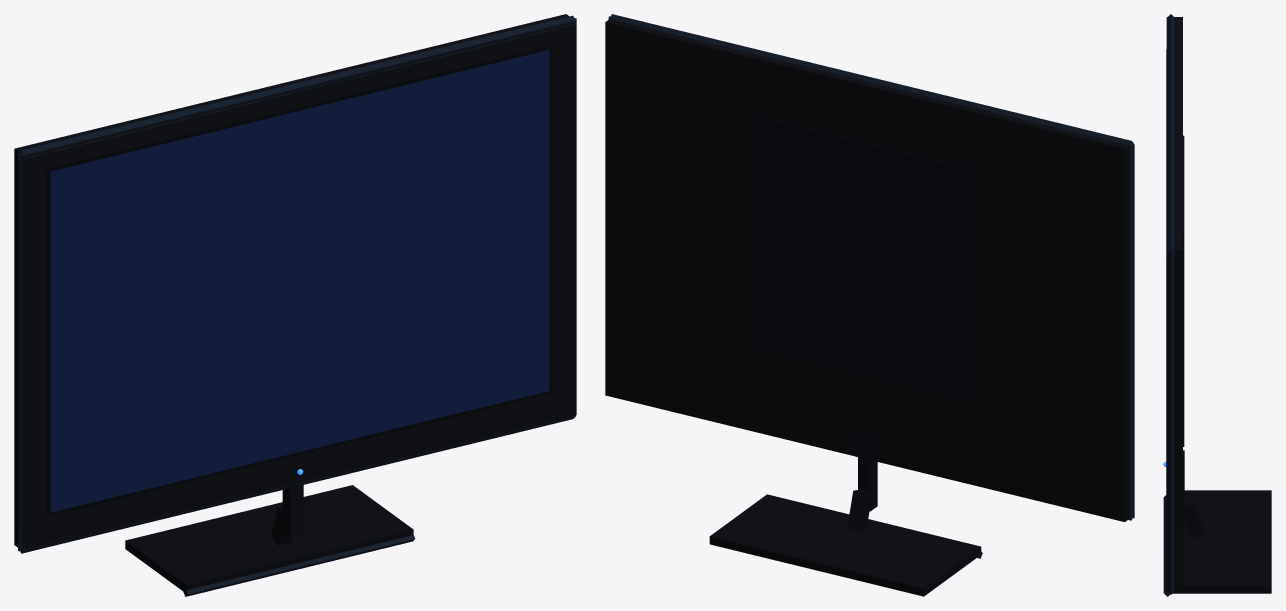
The model's file is monitor.glb.
3 renders of one model, left to right at view 1: azimuth 30°, elevation 25°; view 2: azimuth 150°, elevation 25°; view 3: azimuth 270°, elevation 25°, orthographic. The views are drawn at different scales.
Visible parts, largest first — view 1: ScreenRim, Screen, Body, Base, ScreenRecess, Chin, ChamferTop, ChamferLeft, ChamferBottom, BaseChamfer, ChamferRight, Neck (+1 smaller); view 2: Body, BackPanel, Base, ChamferTop, ChamferLeft, Neck, NeckTaper; view 3: Base, Body, ChamferRight, ChamferTop, BackPanel, NeckTaper, Screen, BaseChamfer.
Boxes of the visible parts, bbox=[...] form: ScreenRim: bbox=[51, 50, 548, 511]; Screen: bbox=[51, 51, 547, 510]; Body: bbox=[14, 14, 575, 551]; Base: bbox=[125, 485, 413, 593]; ScreenRecess: bbox=[46, 45, 552, 516]; Chin: bbox=[23, 396, 575, 546]; ChamferTop: bbox=[19, 15, 575, 156]; ChamferLeft: bbox=[18, 152, 24, 551]; ChamferBottom: bbox=[20, 416, 575, 553]; BaseChamfer: bbox=[183, 535, 415, 596]; ChamferRight: bbox=[574, 18, 576, 416]; Neck: bbox=[282, 485, 303, 537]; Body: bbox=[605, 19, 1133, 521]; BackPanel: bbox=[753, 115, 975, 400]; Base: bbox=[709, 494, 981, 596]; ChamferTop: bbox=[610, 14, 1132, 145]; ChamferLeft: bbox=[1129, 143, 1134, 518]; Neck: bbox=[858, 433, 877, 511]; NeckTaper: bbox=[847, 490, 872, 530]; Base: bbox=[1166, 490, 1271, 593]; Body: bbox=[1167, 17, 1182, 591]; ChamferRight: bbox=[1166, 249, 1174, 593]; ChamferTop: bbox=[1166, 14, 1174, 250]; BackPanel: bbox=[1183, 135, 1184, 446]; NeckTaper: bbox=[1184, 500, 1204, 538]; Screen: bbox=[1166, 49, 1166, 549]; BaseChamfer: bbox=[1163, 495, 1169, 596].
Size of the model in its own units: 3.81 by 3.16 by 0.74.
